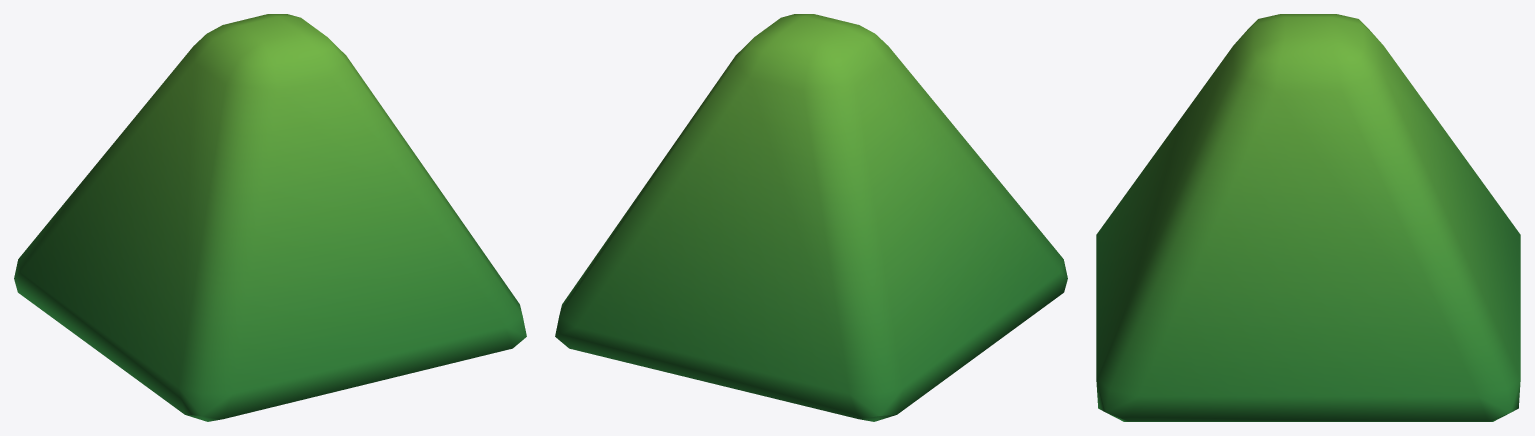
Rendered from Bush_4_C_Color1.glb.
3 renders of one model, left to right at view 1: azimuth 30°, elevation 25°; view 2: azimuth 150°, elevation 25°; view 3: azimuth 270°, elevation 25°, orthographic. The views are drawn at different scales.
Visible parts, largest first — view 1: Bush_4_C_Color1; view 2: Bush_4_C_Color1; view 3: Bush_4_C_Color1.
Boxes of the visible parts, x1,y1,x2,y2 form: Bush_4_C_Color1: (14,14,526,421); Bush_4_C_Color1: (555,14,1067,421); Bush_4_C_Color1: (1096,14,1520,421).
Size of the model in its own units: 1.58 by 1.3 by 1.58.
1 material, 1 textured.
